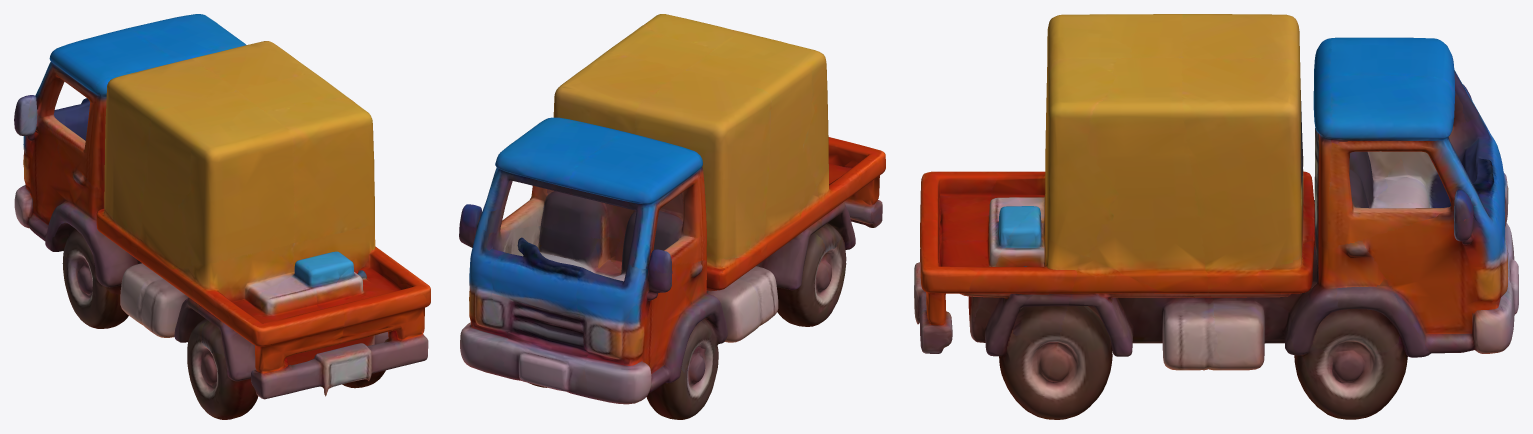
File: delivery_truck.glb
3 views of the same model, side by side, from view 1: azimuth 30°, elevation 25°; view 2: azimuth 150°, elevation 25°; view 3: azimuth 270°, elevation 25° (orthographic). The views are drawn at different scales.
Parts seen in each view (by area): view 1: tripo_node_618f64e3-12a4-4008-ac4b-8d0e96d5119f; view 2: tripo_node_618f64e3-12a4-4008-ac4b-8d0e96d5119f; view 3: tripo_node_618f64e3-12a4-4008-ac4b-8d0e96d5119f.
Boxes of the visible parts, <box> form: tripo_node_618f64e3-12a4-4008-ac4b-8d0e96d5119f: <box>14,14,430,419</box>; tripo_node_618f64e3-12a4-4008-ac4b-8d0e96d5119f: <box>459,14,885,419</box>; tripo_node_618f64e3-12a4-4008-ac4b-8d0e96d5119f: <box>914,14,1518,419</box>.
Size of the model in its own units: 0.4398 by 0.5563 by 0.9496.
1 material, 1 textured.
